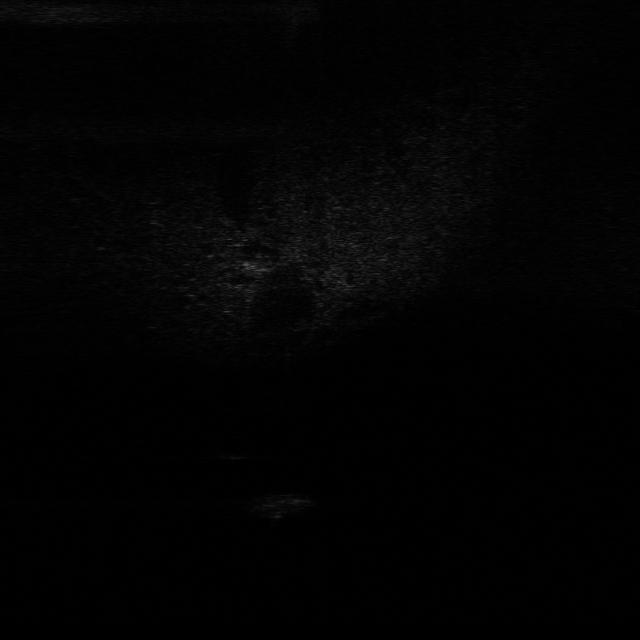ball: (217, 438, 256, 463)
circle cage: (252, 488, 321, 525)
